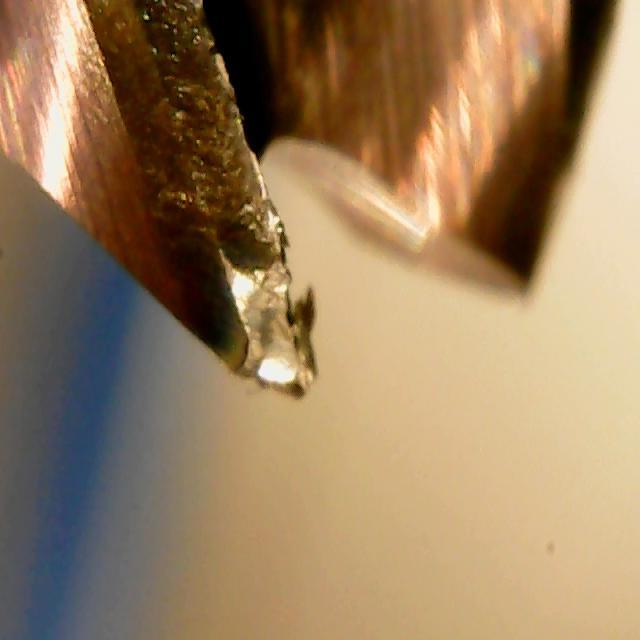Tool-wear-class-2: (130, 28, 324, 405)
